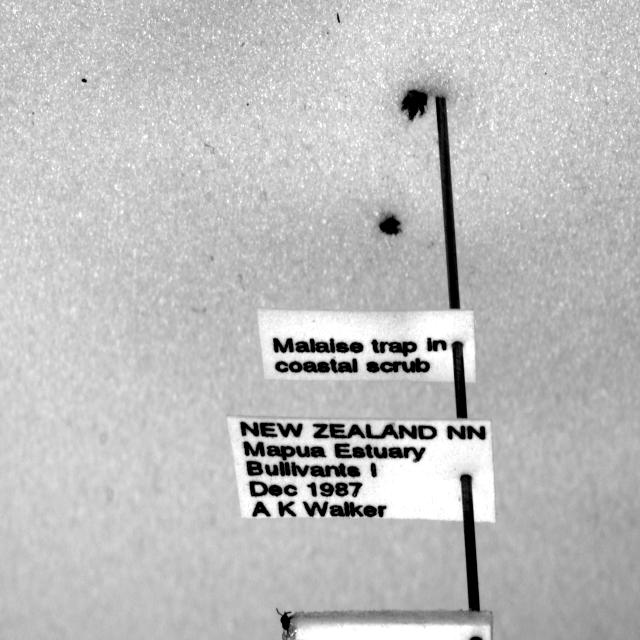typed_label: (228, 416, 495, 523), (258, 308, 476, 382)
